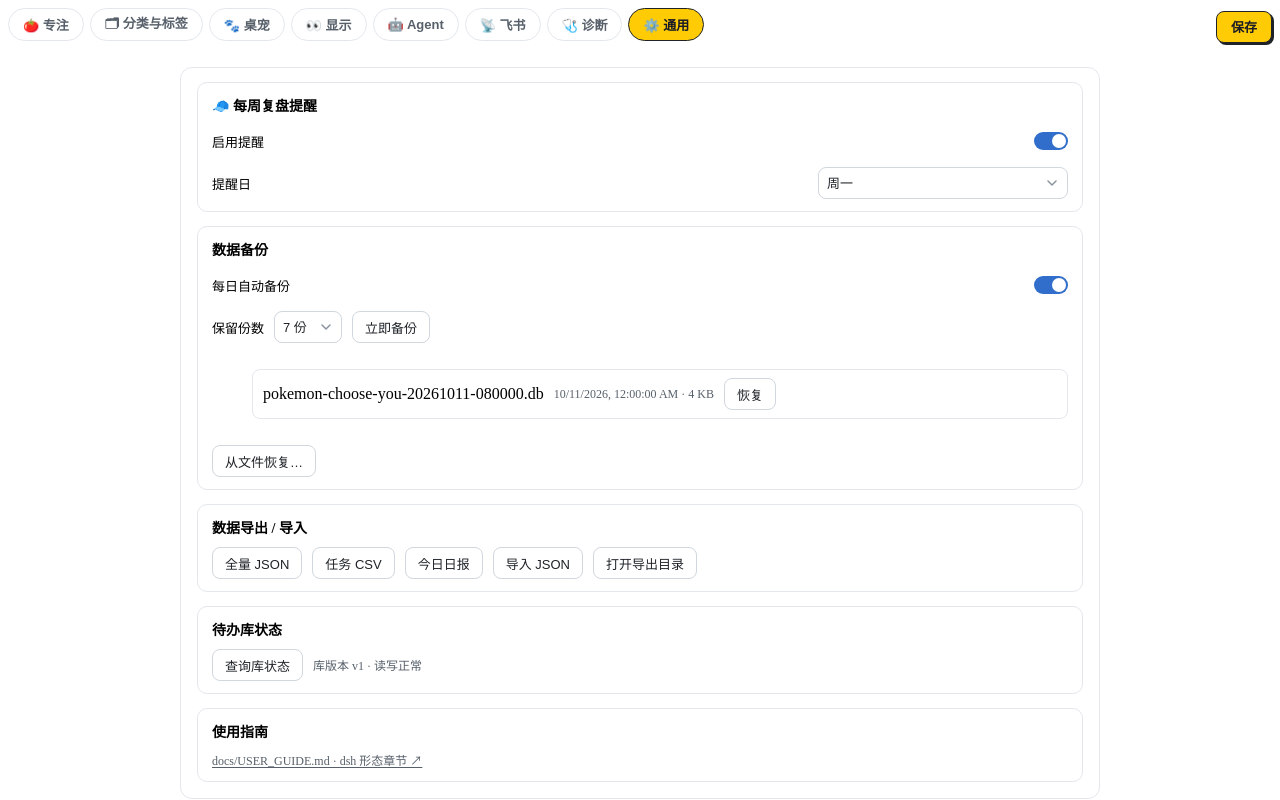
Test: RestoreConfirmModal（备份卡恢复升级） › 版本超窗拒绝态（DB_SCHEMA_TOO_NEW）：确认键禁用 + 升级指引 + 当前库未改动
Click the button with test id "backup-restore". click: x=750, y=394
box: [724,378,776,410]
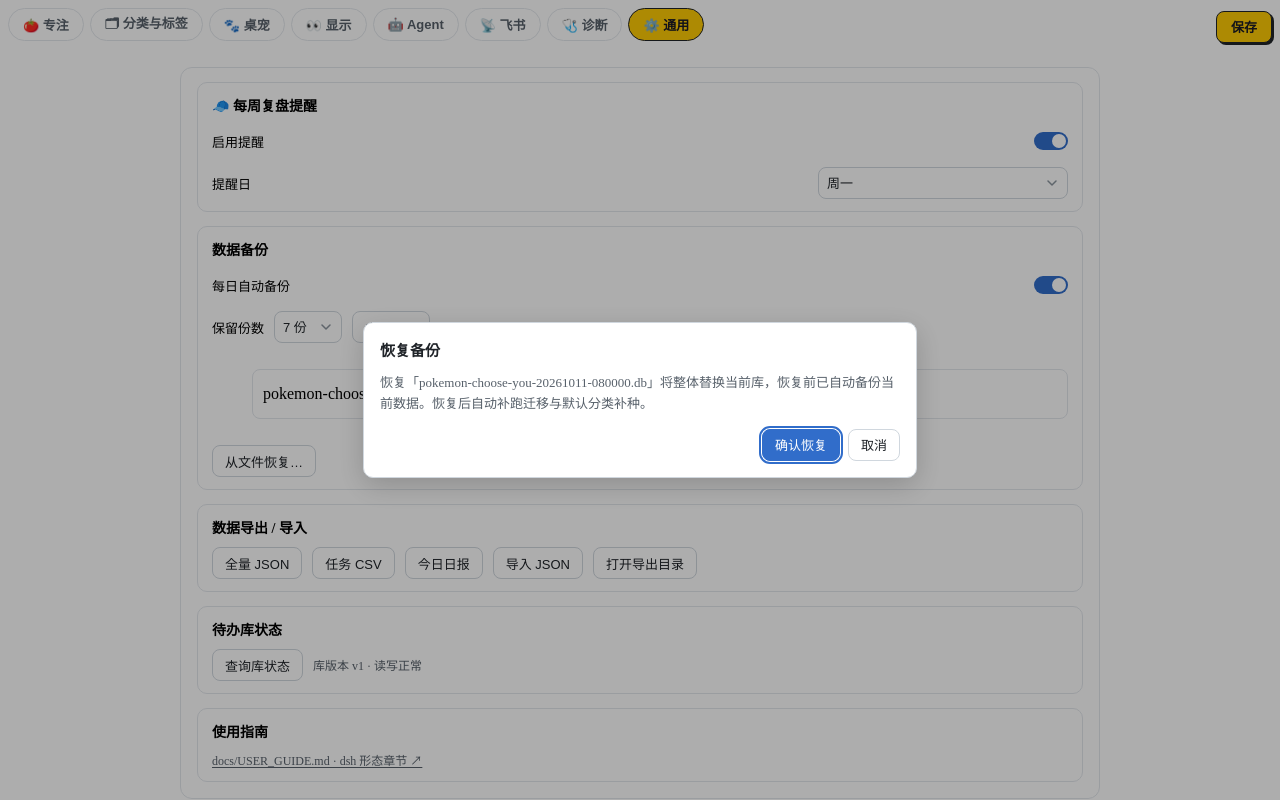
Click the button "确认恢复". click: x=801, y=445
box: [762,429,840,461]
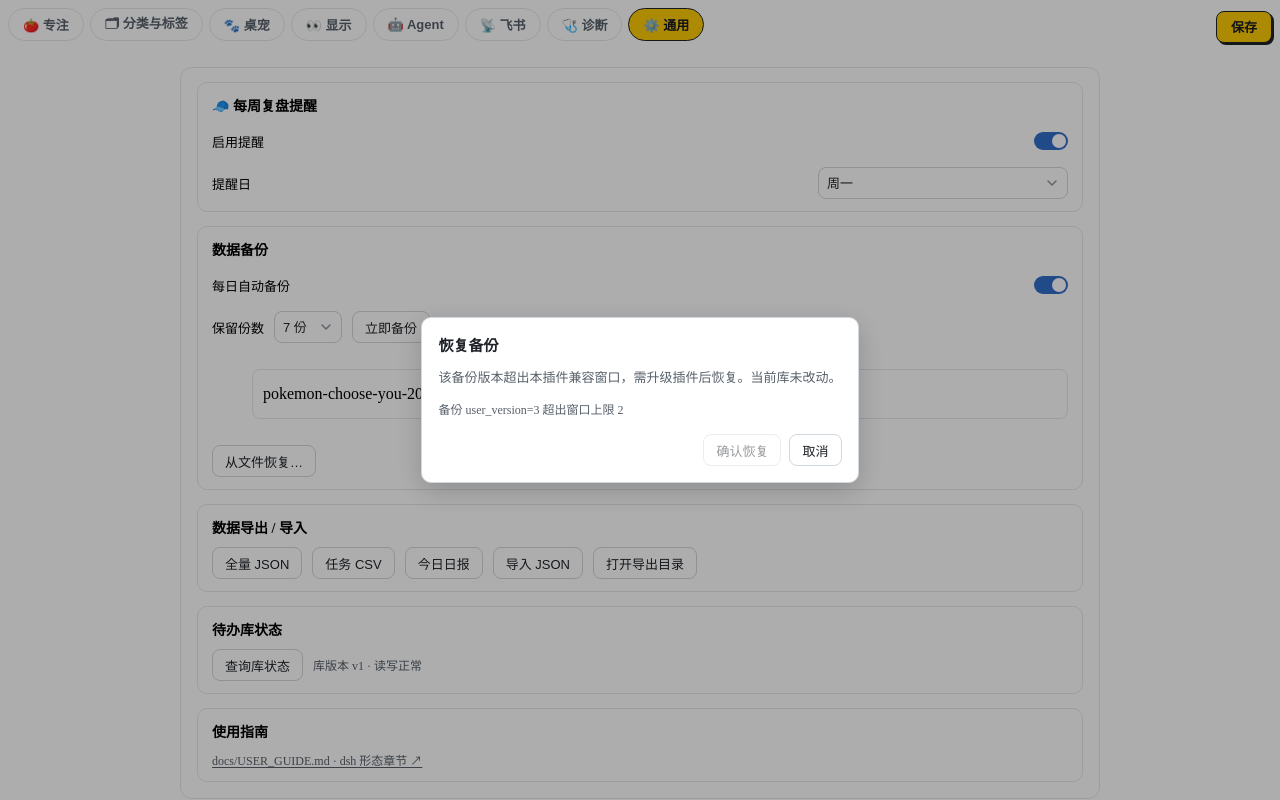
Now the message with test id "restore-rejected" shows "需升级插件后恢复", box [438,370,842,384]
Now the message with test id "restore-rejected" shows "当前库未改动", box [438,370,842,384]
Now the button "确认恢复" is disabled, box [704,434,782,466]
